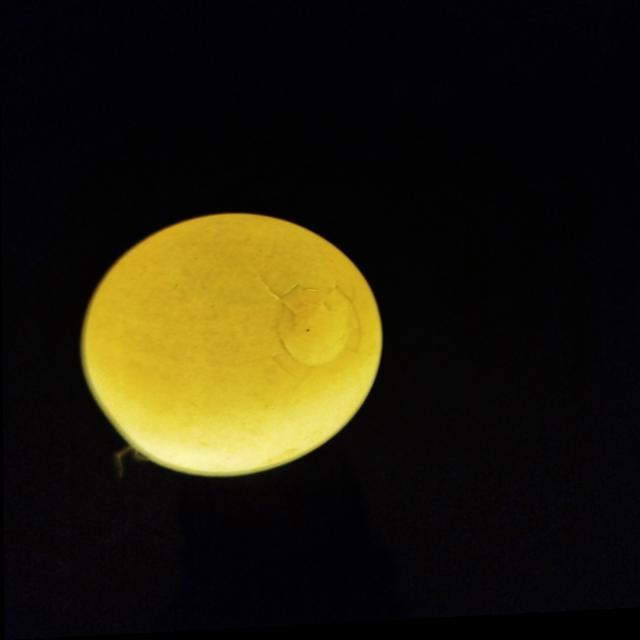Rachadura: (243, 287, 362, 390)
